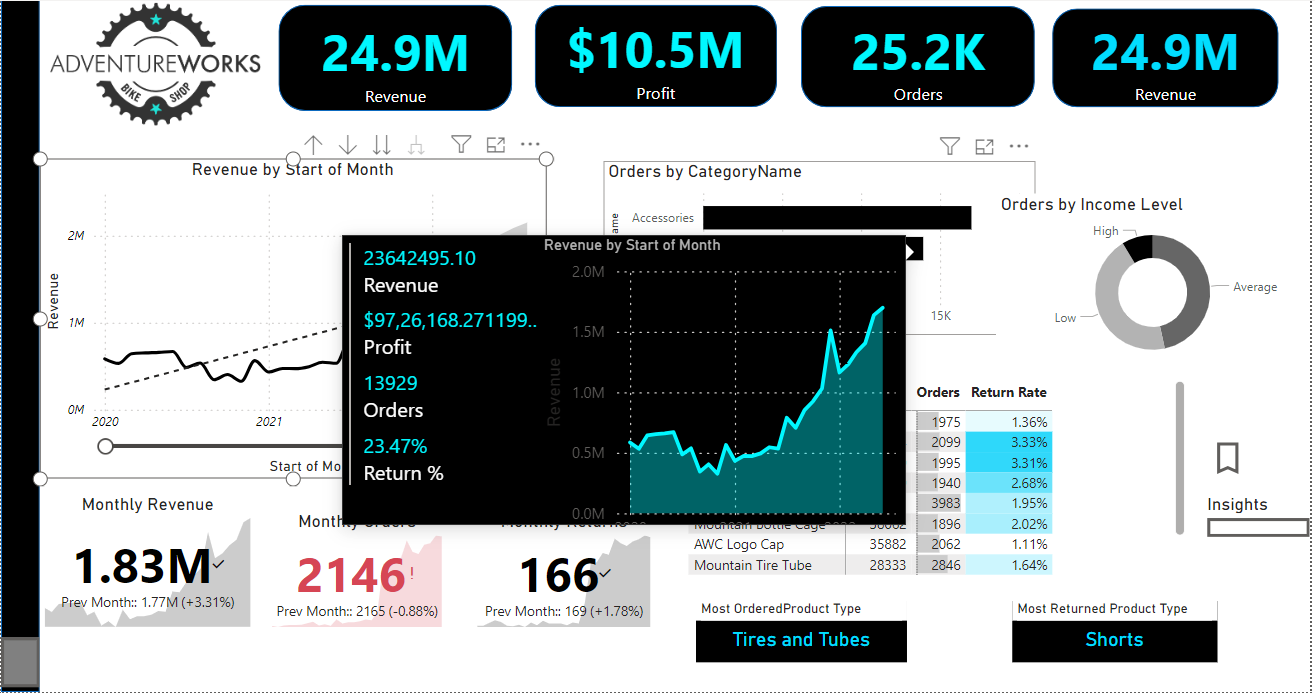

This screenshot's page, from the dashboard's own definition file:
{"tool":"powerbi","page":{"name":"Page 1","canvas":[1280,720],"ordinal":0},"visuals":[{"type":"shape","box":[271.4,47.7,228.6,103.9],"z":0},{"type":"card","fields":{"Values":["Measure Table.Revenue"]},"box":[271.4,51.3,229.8,103.9],"z":1000},{"type":"lineChart","fields":{"Y":["Measure Table.Revenue"],"Category":["Calendar Lookup.Start of Year","Calendar Lookup.Start of Month","Calendar Lookup.Date"]},"box":[37.9,198,495.1,312.9],"z":2000},{"type":"barChart","fields":{"Category":["Product Categories Lookup.CategoryName"],"Y":["Measure Table.Orders"]},"box":[589.2,200.5,421.7,169.9],"z":3000},{"type":"donutChart","fields":{"Y":["Measure Table.Total Orders"],"Category":["Customer Lookup.Income Level"]},"box":[973,232.3,306.8,174.8],"z":4000},{"type":"image","box":[20.8,30.6,261.6,150.4],"z":5000},{"type":"shape","box":[522,47.7,237.1,100.2],"z":6000},{"type":"card","fields":{"Values":["Measure Table.Profit"]},"box":[522,39.1,237.1,122.2],"z":7000},{"type":"shape","box":[782.3,48.9,228.6,99],"z":8000},{"type":"card","fields":{"Values":["Measure Table.Orders"]},"box":[778.7,42.8,237.1,117.4],"z":9000},{"type":"shape","box":[1028,51.3,221.3,96.6],"z":10000},{"type":"card","fields":{"Values":["Measure Table.Revenue"]},"box":[1035.4,51.3,207.8,100.2],"z":11000},{"type":"pivotTable","fields":{"Rows":["Product Lookup.ProductName"],"Values":["Measure Table.Revenue","Measure Table.Orders","Measure Table.Return Rate"]},"box":[667.4,410.7,495.1,199.3],"z":12000},{"type":"card","title":"Most Returned Product Type","fields":{"Values":["Min(Product Subcategories Lookup.SubcategoryName)"]},"box":[988.9,630.8,200.5,59.9],"z":13000},{"type":"card","title":"Most OrderedProduct Type","fields":{"Values":["Min(Product Subcategories Lookup.SubcategoryName)"]},"box":[679.7,630.8,206.6,59.9],"z":14000},{"type":"kpi","title":"Monthly Revenue","fields":{"Indicator":["Measure Table.Revenue"],"TrendLine":["Calendar Lookup.Start of Month"],"Goal":["Measure Table.Previous Revenue"]},"box":[37.9,525.6,211.5,135.7],"z":15000},{"type":"kpi","title":"Monthly Orders","fields":{"TrendLine":["Calendar Lookup.Start of Month"],"Indicator":["Measure Table.Orders"],"Goal":["Measure Table.Previous Month Orders"]},"box":[260.4,542.8,176,118.6],"z":16000},{"type":"kpi","title":"Monthly Returns","fields":{"TrendLine":["Calendar Lookup.Start of Month"],"Indicator":["Measure Table.Total Returns"],"Goal":["Measure Table.Previous Month Returns"]},"box":[460.8,542.8,179.7,118.6],"z":17000},{"type":"actionButton","box":[1179.6,470.6,100.2,40.3],"z":18000},{"type":"actionButton","title":"Insights","box":[1179.6,525.6,100.2,42.8],"z":20000},{"type":"shape","box":[0,0,37.9,720],"z":23000},{"type":"actionButton","title":"open","box":[0,3.7,46.5,39.1],"z":24000},{"type":"actionButton","box":[0,666.2,37.9,48.9],"z":25000}]}

Visuals, with their boxes on the page's 1280x720 design canvas (x1, y1, x2, y2). These are canvas units, not pixel positions in the 1315x693 screenshot, which may show the page scaled, cropped or inside an application window:
shape: BBox(271, 48, 500, 152)
card - Measure Table.Revenue: BBox(271, 51, 501, 155)
lineChart - Measure Table.Revenue x Calendar Lookup.Start of Year: BBox(38, 198, 533, 511)
barChart - Product Categories Lookup.CategoryName x Measure Table.Orders: BBox(589, 200, 1011, 370)
donutChart - Measure Table.Total Orders x Customer Lookup.Income Level: BBox(973, 232, 1280, 407)
image: BBox(21, 31, 282, 181)
shape: BBox(522, 48, 759, 148)
card - Measure Table.Profit: BBox(522, 39, 759, 161)
shape: BBox(782, 49, 1011, 148)
card - Measure Table.Orders: BBox(779, 43, 1016, 160)
shape: BBox(1028, 51, 1249, 148)
card - Measure Table.Revenue: BBox(1035, 51, 1243, 152)
pivotTable - Product Lookup.ProductName x Measure Table.Revenue: BBox(667, 411, 1162, 610)
"Most Returned Product Type" card: BBox(989, 631, 1189, 691)
"Most OrderedProduct Type" card: BBox(680, 631, 886, 691)
"Monthly Revenue" kpi: BBox(38, 526, 249, 661)
"Monthly Orders" kpi: BBox(260, 543, 436, 661)
"Monthly Returns" kpi: BBox(461, 543, 640, 661)
actionButton: BBox(1180, 471, 1280, 511)
"Insights" actionButton: BBox(1180, 526, 1280, 568)
shape: BBox(0, 0, 38, 720)
"open" actionButton: BBox(0, 4, 46, 43)
actionButton: BBox(0, 666, 38, 715)
